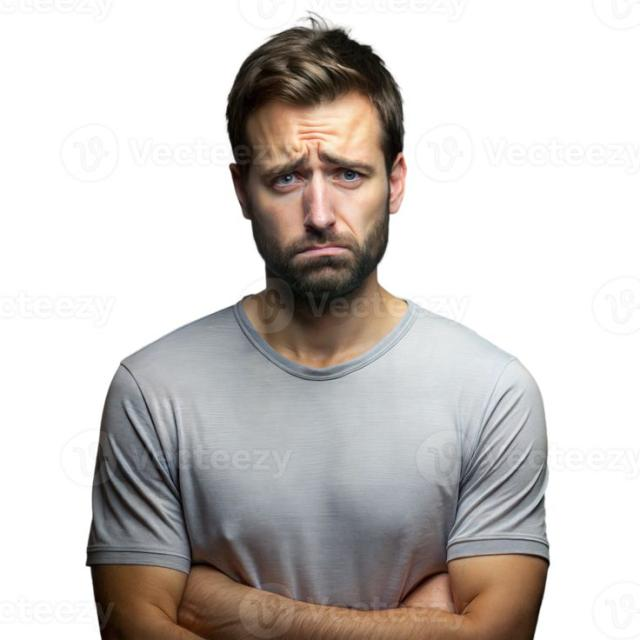sem_oculos: (213, 142, 418, 198)
